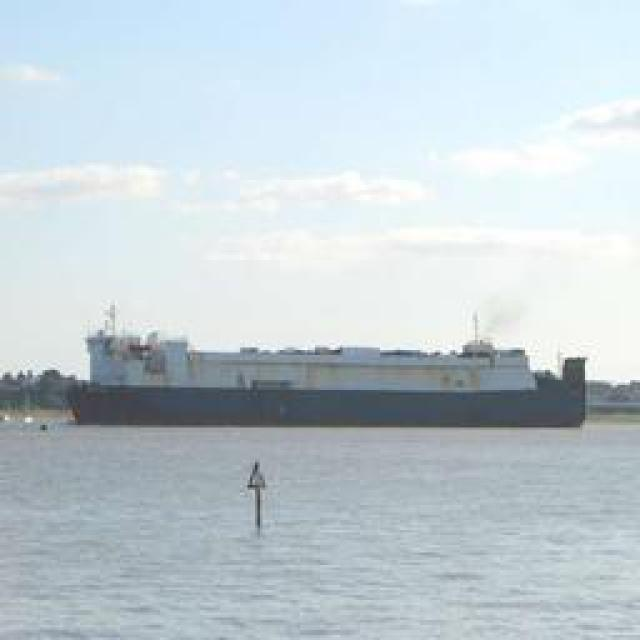Ship: (76, 330, 584, 430)
